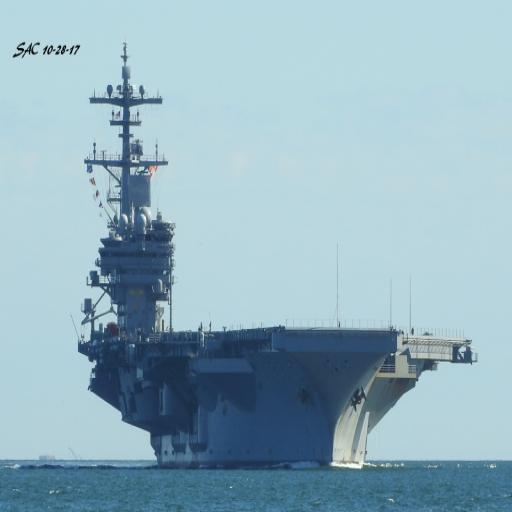Portanaves: (70, 42, 479, 482)
